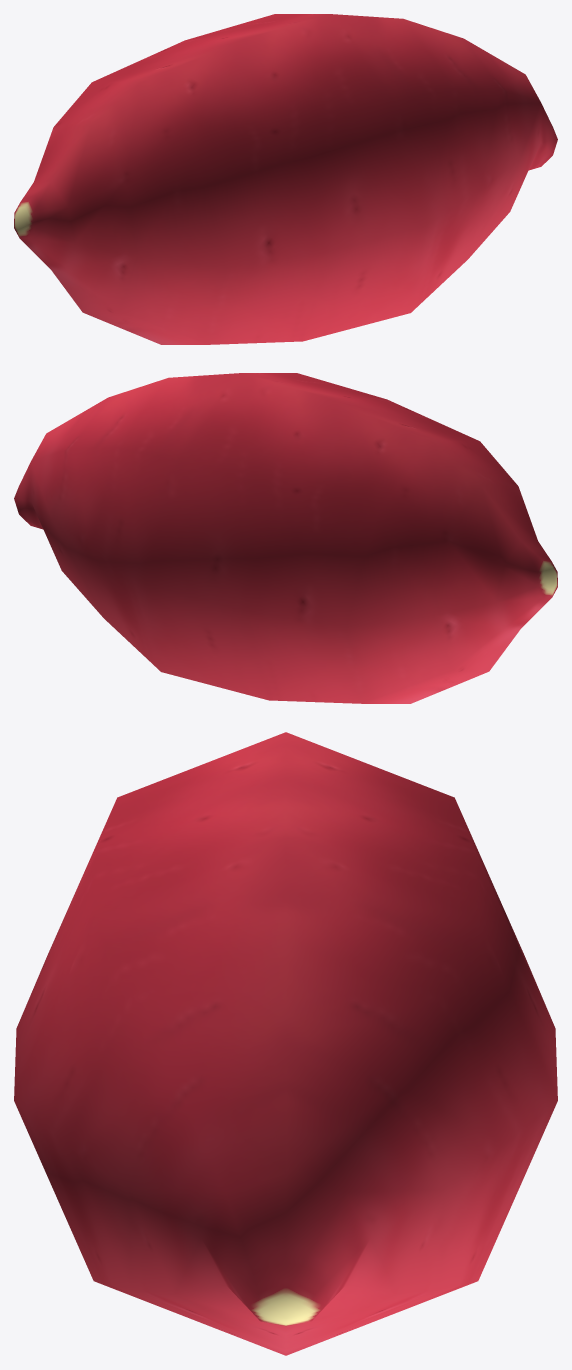
Rendered from Yam.FBX.
3 views of the same model, one above another, from view 1: azimuth 30°, elevation 25°; view 2: azimuth 150°, elevation 25°; view 3: azimuth 270°, elevation 25° (orthographic). The views are drawn at different scales.
Parts seen in each view (by area): view 1: Yam; view 2: Yam; view 3: Yam.
Part boxes in pixels (x1,y1,x2,y2): Yam: [14, 14, 557, 344]; Yam: [14, 373, 557, 703]; Yam: [14, 732, 557, 1355].
Bounding box in the file's own units: 190 × 104 × 103.
